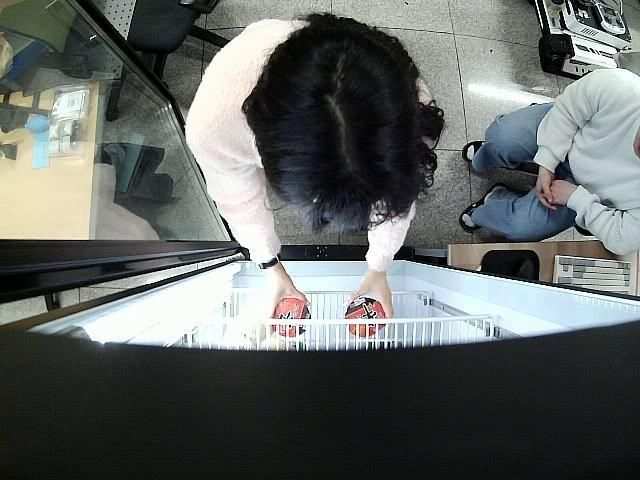02_shinRamen_S: (344, 298, 384, 338), (270, 298, 310, 337)
